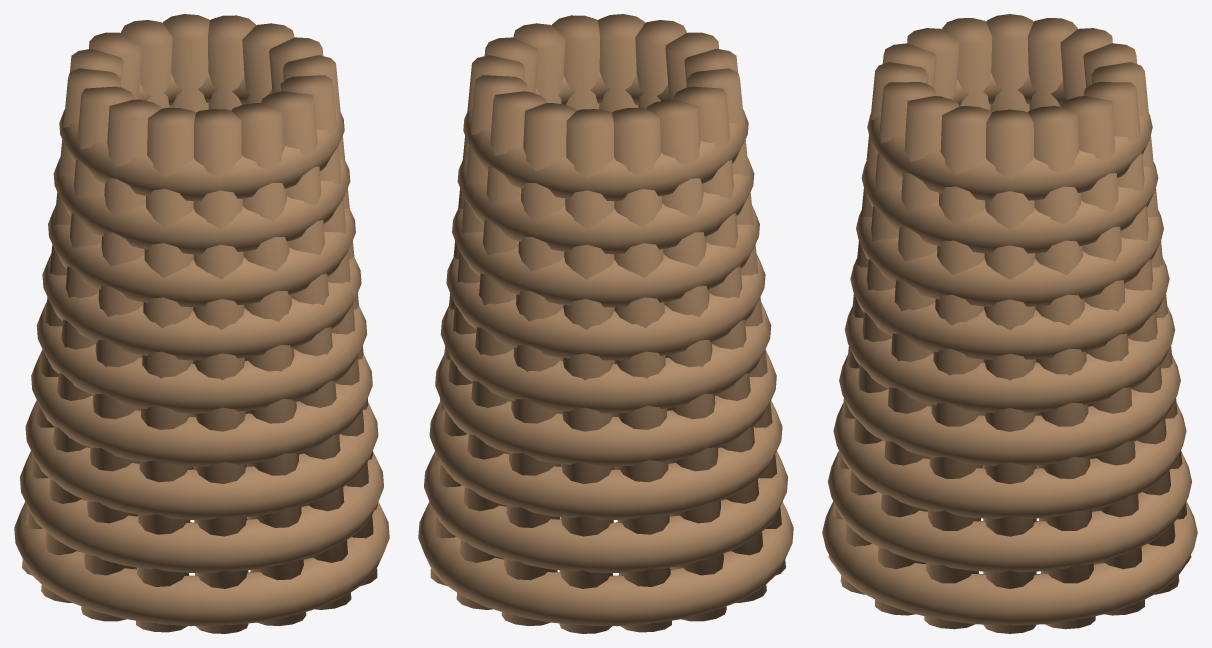
The model's file is cesto-raiz.glb.
3 renders of one model, left to right at view 1: azimuth 30°, elevation 25°; view 2: azimuth 150°, elevation 25°; view 3: azimuth 270°, elevation 25°, orthographic.
Visible parts, largest first — view 1: Trama horizontal, Trama horizontal.001, Trama horizontal.002, Trama horizontal.003, Trama horizontal.004, Trama horizontal.005, Trama vertical.011, Trama vertical.010, Trama horizontal.006, Trama vertical.012, Trama vertical.009, Trama horizontal.007 (+13 smaller); view 2: Trama horizontal, Trama horizontal.001, Trama horizontal.002, Trama horizontal.003, Trama horizontal.004, Trama horizontal.005, Trama vertical.005, Trama vertical.006, Trama horizontal.006, Trama vertical.004, Trama vertical.007, Trama horizontal.007 (+13 smaller); view 3: Trama horizontal, Trama horizontal.001, Trama horizontal.002, Trama horizontal.003, Trama horizontal.004, Trama horizontal.005, Trama vertical, Trama horizontal.006, Trama vertical.001, Trama vertical.015, Trama horizontal.007, Trama horizontal.008 (+13 smaller).
Boxes of the visible parts, x1,y1,x2,y2 form: Trama horizontal: (14,502,389,626); Trama horizontal.001: (20,451,383,572); Trama horizontal.002: (25,400,378,519); Trama horizontal.003: (31,350,372,466); Trama horizontal.004: (36,301,367,413); Trama horizontal.005: (42,253,361,360); Trama vertical.011: (193,109,248,633); Trama vertical.010: (136,108,195,632); Trama horizontal.006: (48,205,355,307); Trama vertical.012: (231,103,306,625); Trama vertical.009: (81,99,161,621); Trama horizontal.007: (53,157,350,254); Trama horizontal: (418,502,793,626); Trama horizontal.001: (424,451,787,572); Trama horizontal.002: (429,400,782,519); Trama horizontal.003: (435,350,776,466); Trama horizontal.004: (440,301,771,413); Trama horizontal.005: (446,253,765,360); Trama vertical.005: (559,109,614,633); Trama vertical.006: (612,108,671,632); Trama horizontal.006: (452,205,759,307); Trama vertical.004: (501,103,576,625); Trama vertical.007: (646,99,726,621); Trama horizontal.007: (457,157,754,254); Trama horizontal: (822,465,1197,625); Trama horizontal.001: (828,451,1191,572); Trama horizontal.002: (833,403,1186,518); Trama horizontal.003: (839,355,1180,465); Trama horizontal.004: (844,306,1175,412); Trama horizontal.005: (850,258,1169,359); Trama vertical: (983,109,1036,633); Trama horizontal.006: (856,210,1163,306); Trama vertical.001: (1028,106,1095,629); Trama vertical.015: (924,106,991,629); Trama horizontal.007: (861,162,1158,253); Trama horizontal.008: (867,73,1152,200).
Bounding box in the file's own units: 0.126 × 0.1815 × 0.126.
